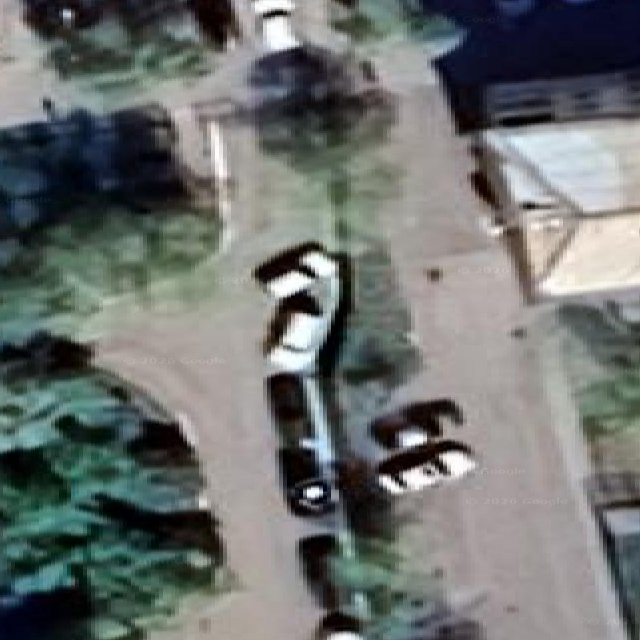car: (0, 104, 190, 237), (377, 440, 476, 494), (370, 398, 463, 450), (277, 447, 335, 516), (265, 373, 314, 446), (298, 533, 338, 609), (314, 611, 364, 639)
